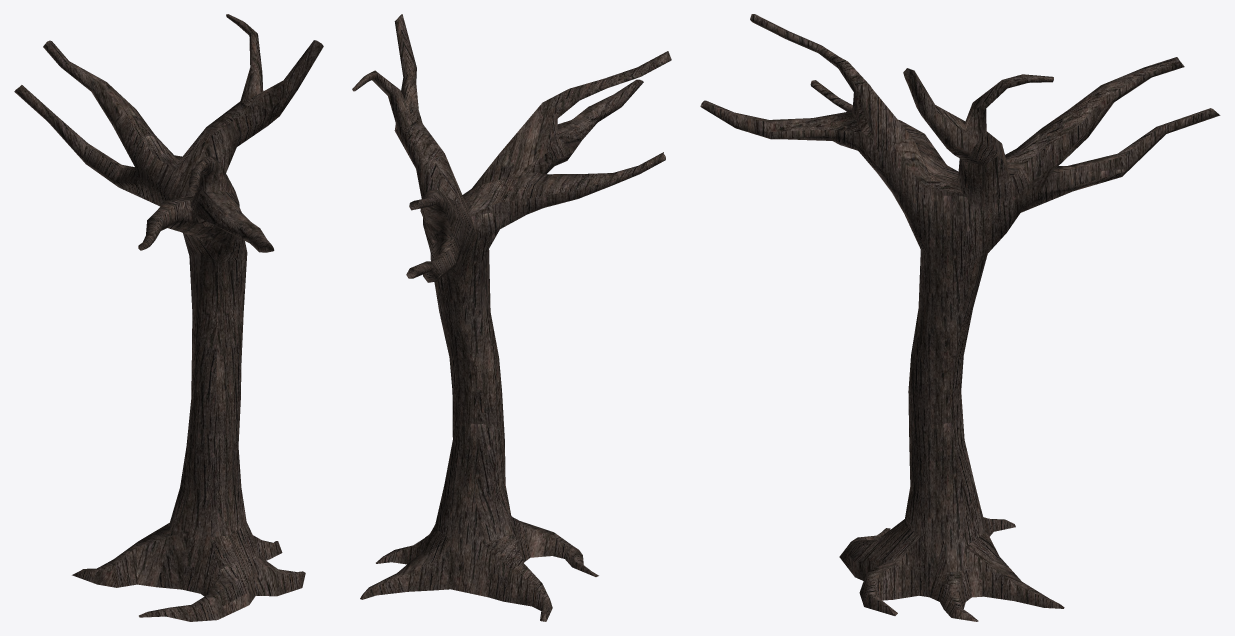
Rendered from model_sakuraTree03.FBX.
The picture shows the model from 3 angles, left to right: view 1: azimuth 30°, elevation 25°; view 2: azimuth 150°, elevation 25°; view 3: azimuth 270°, elevation 25°; orthographic projection. The views are drawn at different scales.
Visible parts, largest first — view 1: Cylinder001; view 2: Cylinder001; view 3: Cylinder001.
Part boxes in pixels (x1=…): Cylinder001: x1=14, y1=14, x2=323, y2=621; Cylinder001: x1=352, y1=14, x2=671, y2=621; Cylinder001: x1=700, y1=14, x2=1220, y2=621.
Size of the model in its own units: 103 by 227 by 192.
